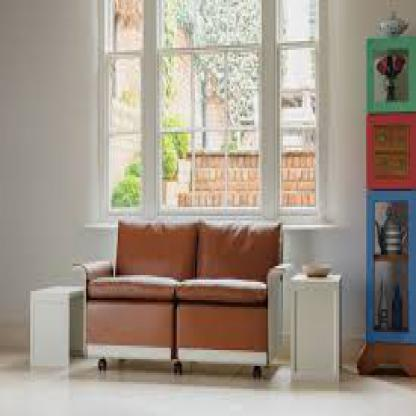sofa: (85, 216, 289, 368)
